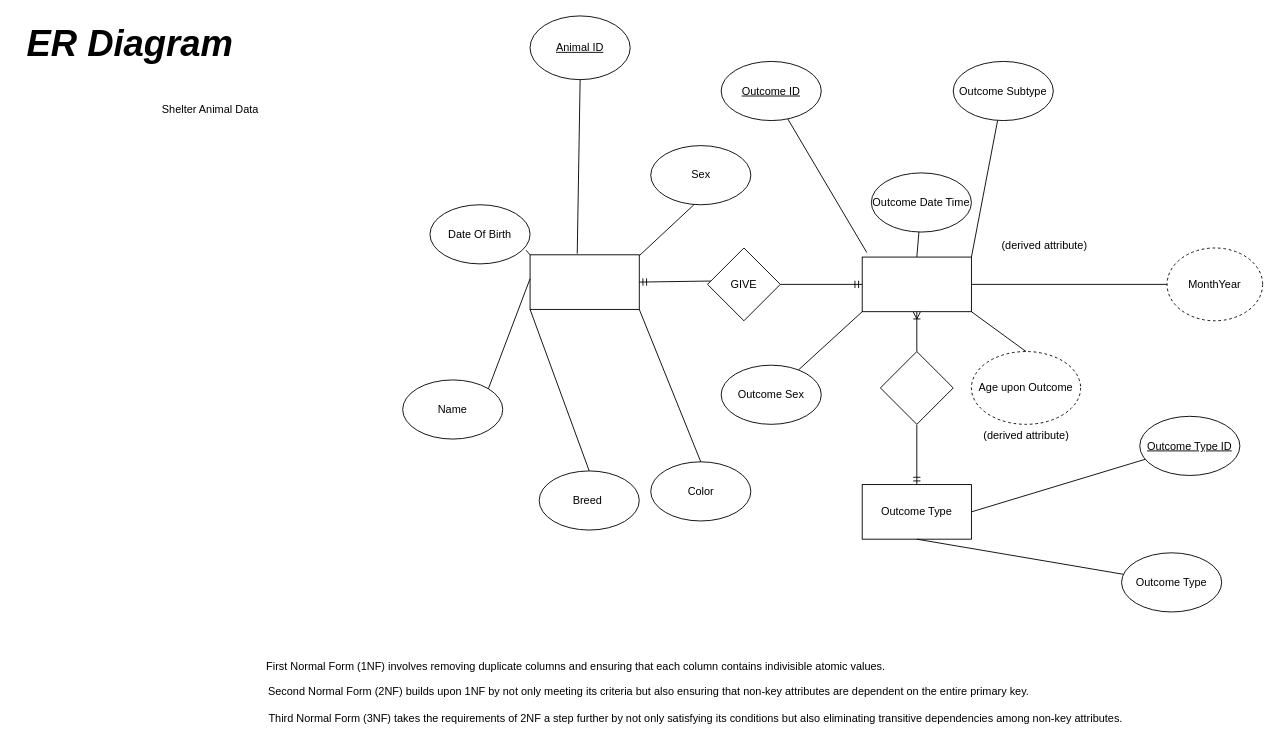
Image size: 1279x749. Some labels were removed from this diagram. Each missing label, with the centre of its shape:
"Animal" goes at pixel 584 281.
"HAVE" goes at pixel 916 387.
"Ourtcome Event" goes at pixel 916 284.
